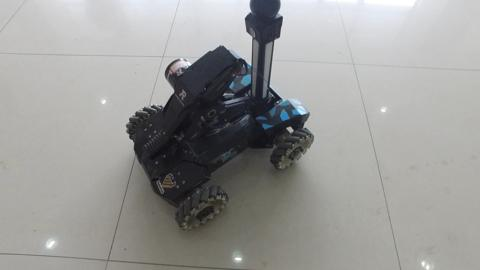chariot: (114, 23, 299, 216)
